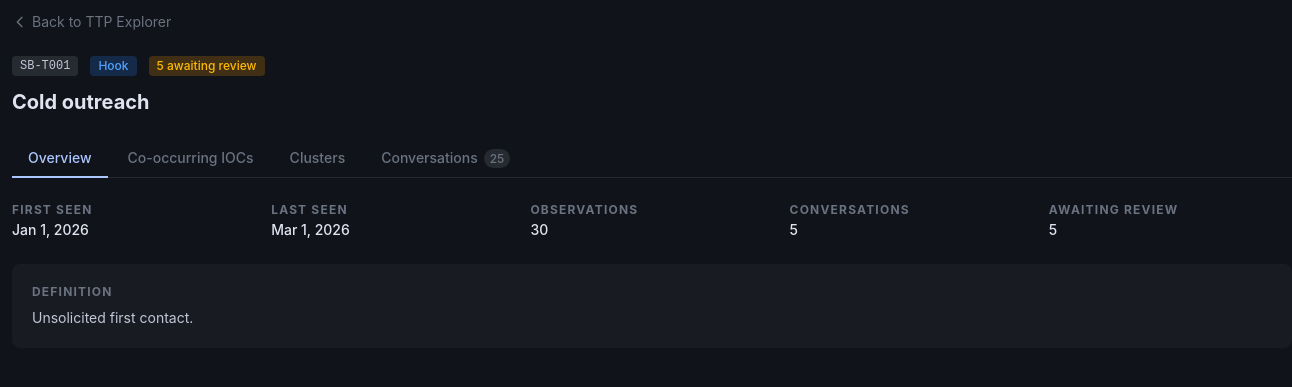
TtpDetail — coverage gaps › keeps the pager reachable on an empty page and Previous repopulates the rows
Expected: the heading "Cold outreach" is shown, [12,90,150,114]
Click the button with test id "ttp-detail-tab-conversations". click: [446, 159]
box: [365,140,526,178]
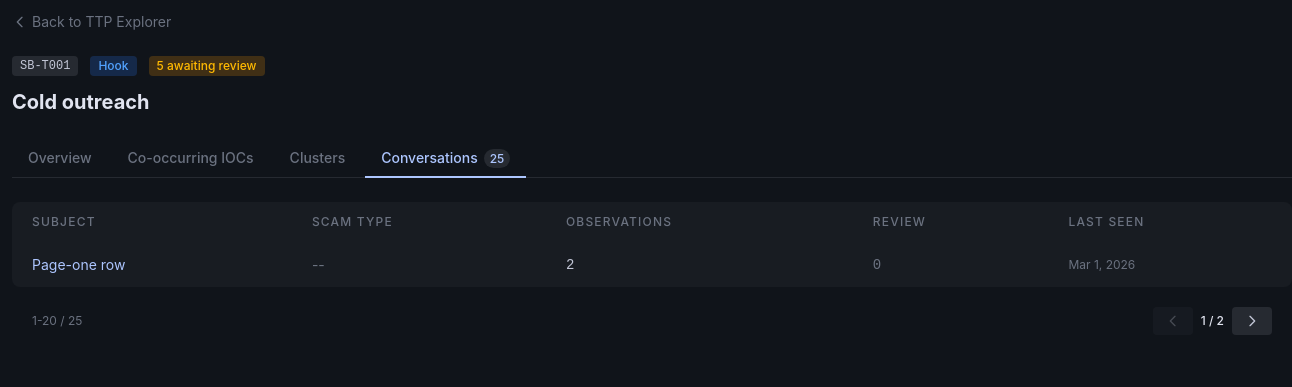
Expected: the link "Page-one row" is shown, [32,256,125,272]
Click the button named "Next page". click: [1252, 321]
box: [1232,307,1272,335]
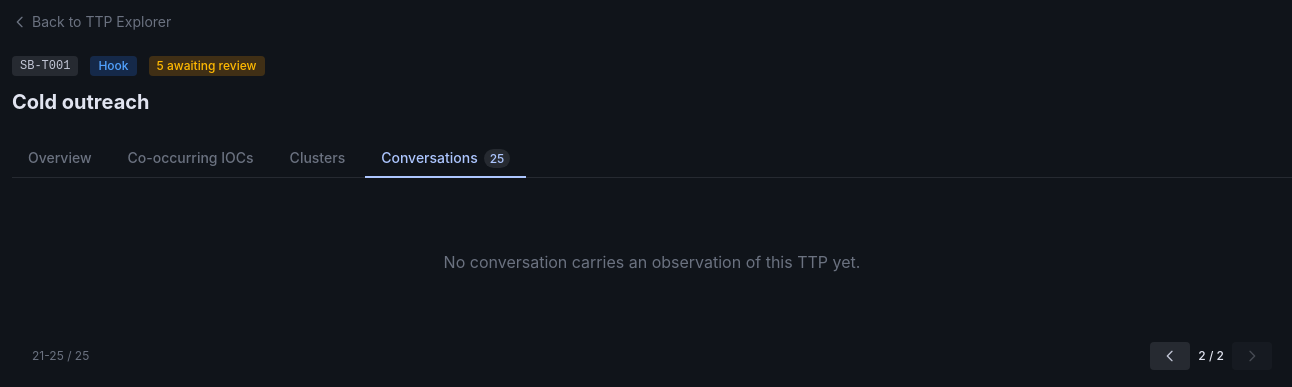
Expected: the text "No conversation carries an observation of this TTP yet." is shown, [444,252,860,272]
Click the button named "Previous page". click: [1170, 356]
box: [1150,342,1190,370]
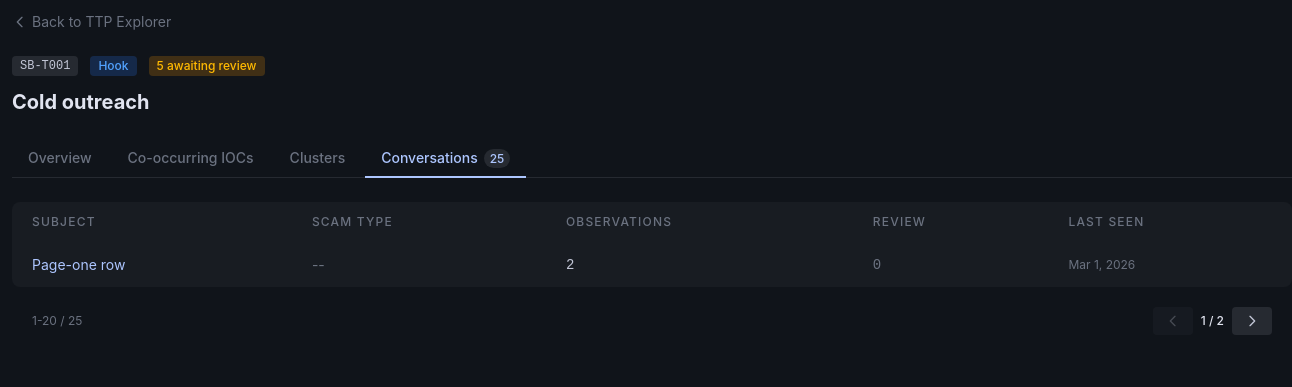
Expected: the link "Page-one row" is shown, [32,256,125,272]
